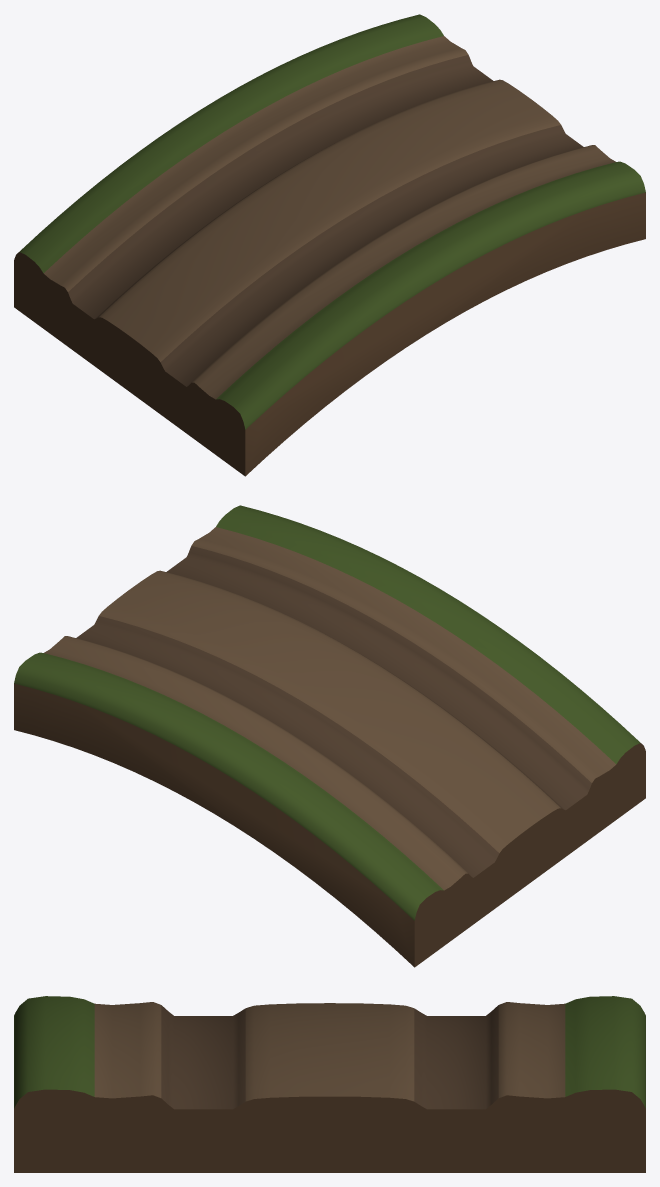
3 views of the same model, one above another, from view 1: azimuth 30°, elevation 25°; view 2: azimuth 150°, elevation 25°; view 3: azimuth 270°, elevation 25° (orthographic). The views are drawn at different scales.
Parts seen in each view (by area): view 1: e3o; view 2: e3o; view 3: e3o.
Part boxes in pixels (<box>): e3o: <box>14,14,645,476</box>; e3o: <box>14,505,645,967</box>; e3o: <box>14,996,645,1172</box>.
Bounding box in the file's own units: 9 × 4.31 × 9.
